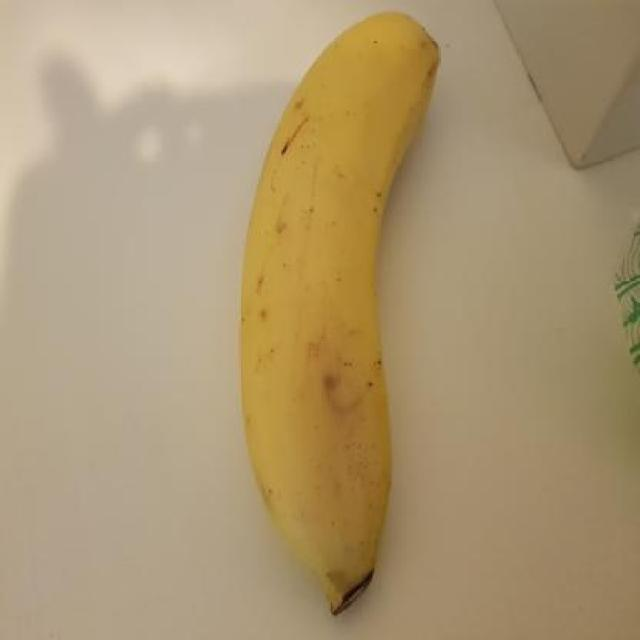Banana: (231, 6, 446, 622)
